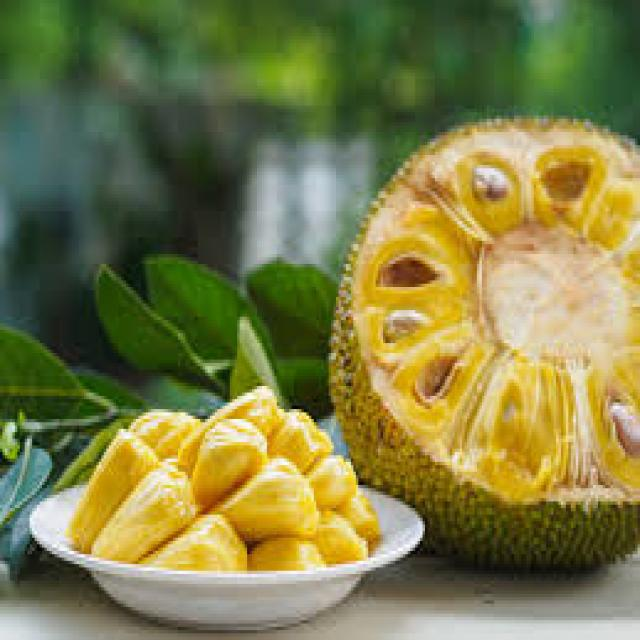food_waste: (69, 119, 638, 567)
